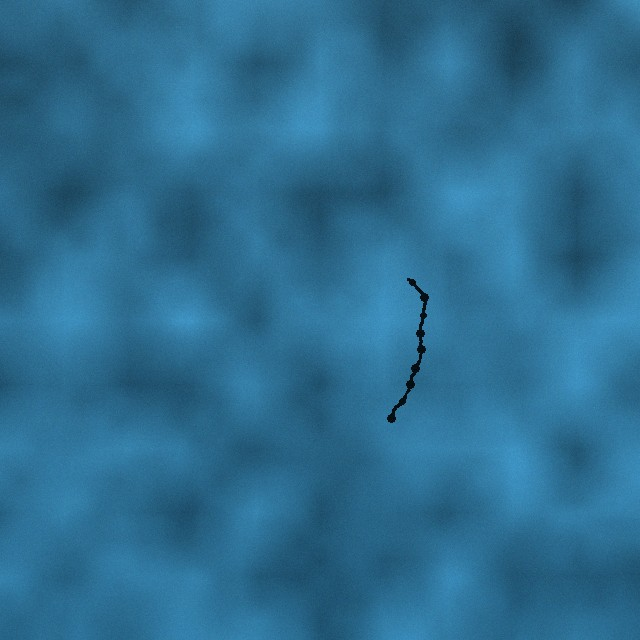crack: (386, 274, 430, 423)
